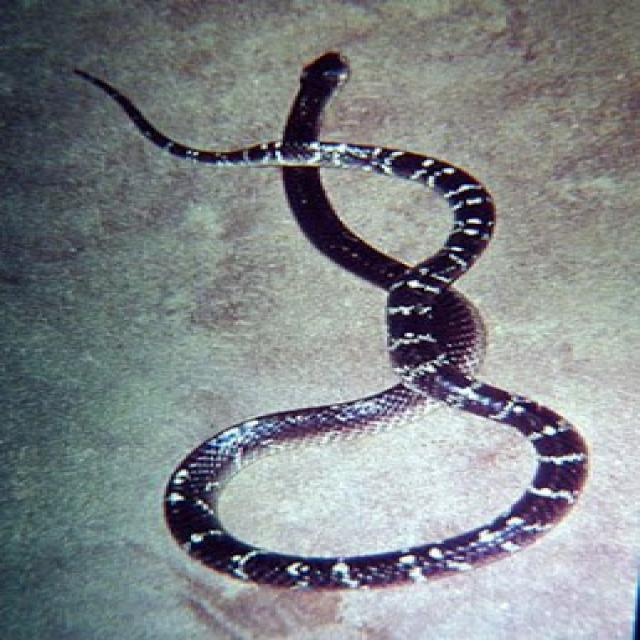Snake: (70, 48, 590, 592)
